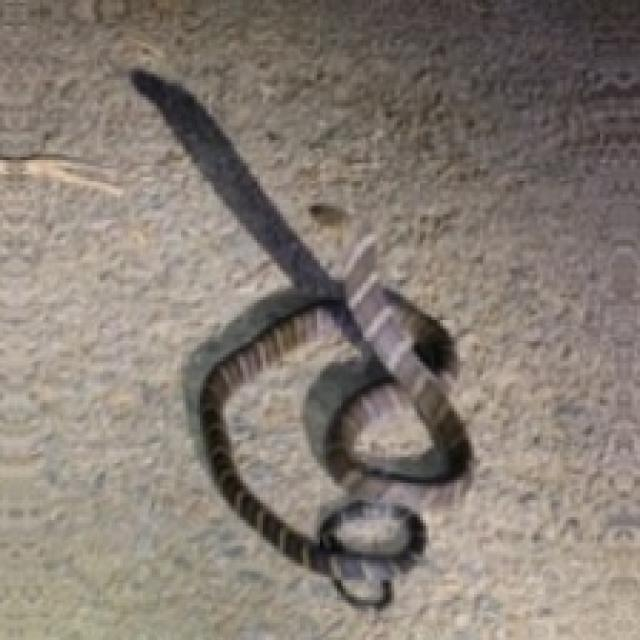king cobra: (131, 69, 469, 603)
